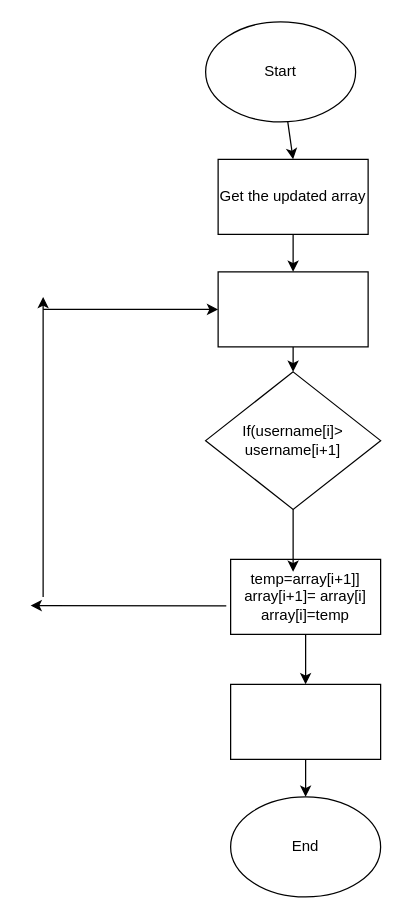
This 403x919 diagram has some shape labels left out. The shapes that lost their labels are listed below. From the top down, each one's box as (x1, y1, x2, y2) in pixels, then its label:
(217, 271, 368, 347): Check for(i=0 to i<array.length)
(229, 683, 381, 759): Print the updated array
